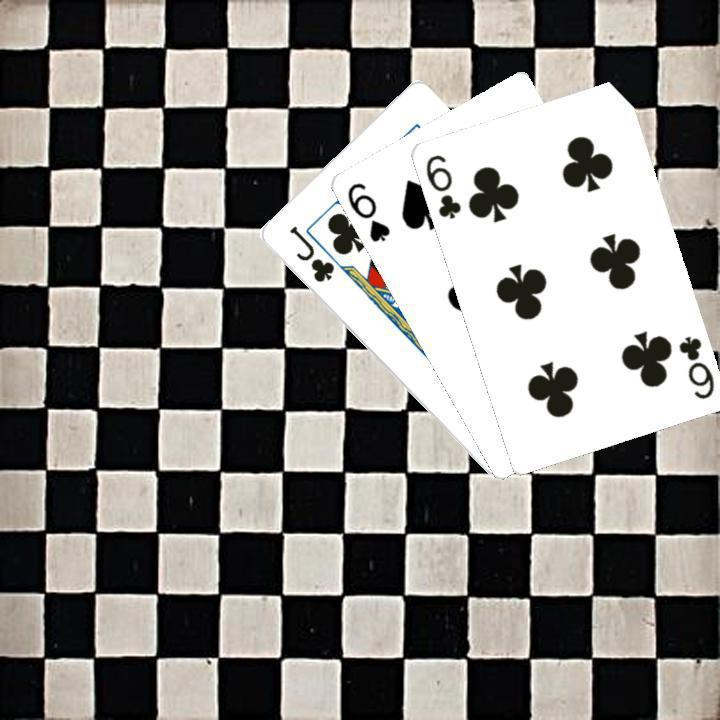6: (342, 177, 392, 244), (673, 331, 716, 401), (421, 150, 463, 221)
J: (284, 221, 336, 285)
